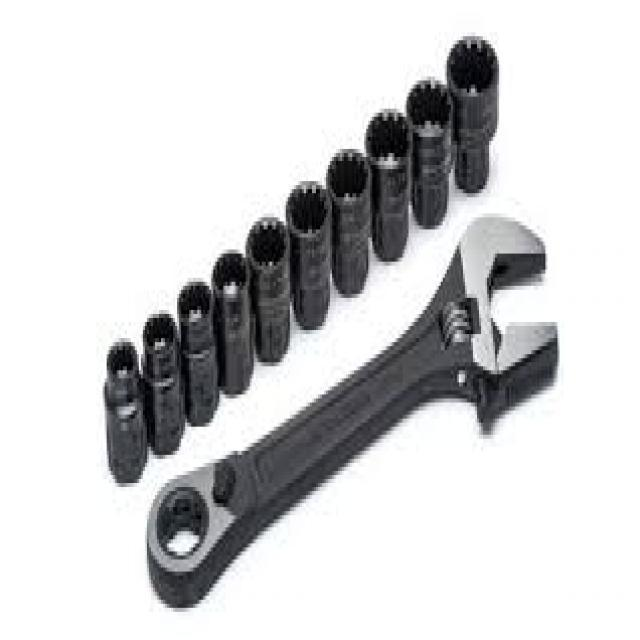wrench: (142, 202, 564, 613)
